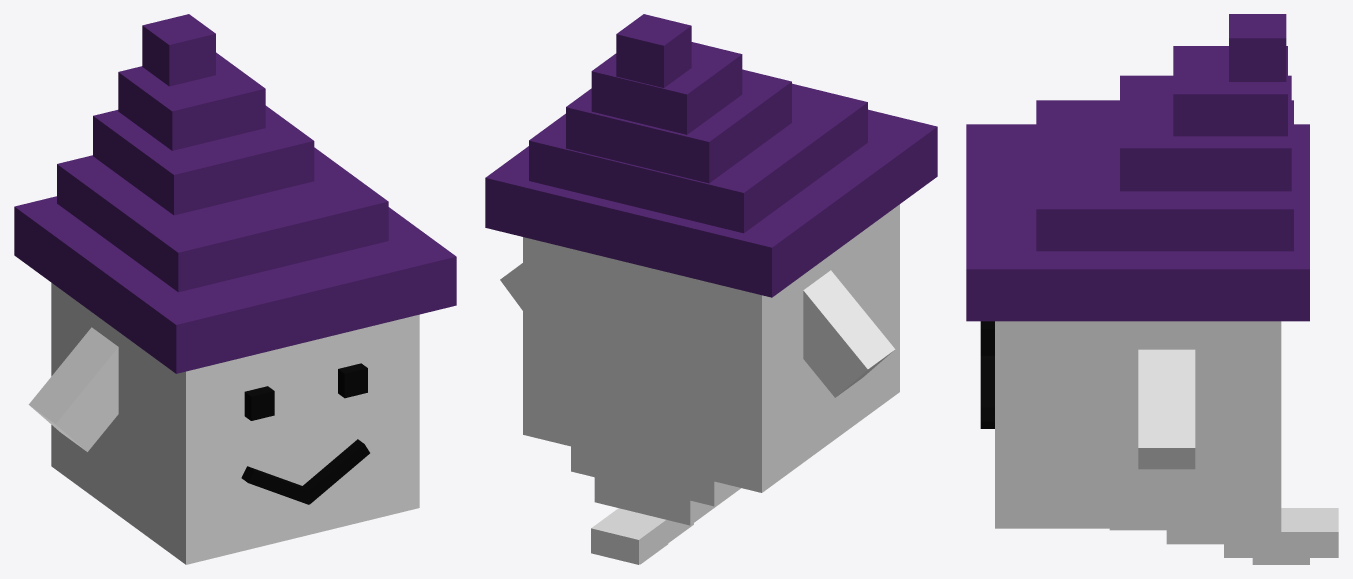
File: GhostMotion.fbx
The picture shows the model from 3 angles, left to right: view 1: azimuth 30°, elevation 25°; view 2: azimuth 150°, elevation 25°; view 3: azimuth 270°, elevation 25°; orthographic projection. The views are drawn at different scales.
Visible parts, largest first — view 1: MainBody, Hat1, Hat2, Hat3, Hat4, RightHand, Hat5, Mouse2, Mouse1, RightEye, LeftEye; view 2: MainBody, Hat1, Hat2, Hat3, Hat4, RightHand, Hat5, Tail1, Tail3, Tail2, LeftHand; view 3: MainBody, Hat1, Hat2, Hat3, Hat4, LeftHand, Hat5, Tail3, Tail2, Mouse1, LeftEye, Tail1.
Part boxes in pixels (x1,y1,x2,y2): MainBody: (51, 283, 419, 564); Hat1: (14, 196, 456, 373); Hat2: (57, 147, 388, 292); Hat3: (93, 105, 314, 215); Hat4: (118, 52, 265, 150); RightHand: (28, 327, 118, 451); Hat5: (142, 14, 215, 86); Mouse2: (303, 439, 369, 504); Mouse1: (241, 466, 312, 504); RightEye: (244, 386, 274, 420); LeftEye: (338, 363, 367, 398); MainBody: (523, 204, 899, 492); Hat1: (485, 109, 937, 297); Hat2: (529, 83, 867, 233); Hat3: (566, 69, 791, 183); Hat4: (591, 42, 742, 134); RightHand: (803, 270, 895, 397); Hat5: (616, 14, 691, 87); Tail1: (571, 446, 739, 506); Tail3: (591, 508, 693, 564); Tail2: (594, 477, 740, 525); LeftHand: (500, 263, 522, 310); MainBody: (995, 321, 1281, 528); Hat1: (966, 124, 1309, 321); Hat2: (1036, 100, 1293, 251); Hat3: (1120, 75, 1291, 191); Hat4: (1173, 46, 1287, 136); LeftHand: (1138, 349, 1195, 469); Hat5: (1229, 14, 1286, 81); Tail3: (1224, 508, 1338, 557); Tail2: (1166, 530, 1281, 544); Mouse1: (980, 355, 994, 407); LeftEye: (980, 321, 994, 355); Tail1: (1109, 528, 1281, 530).
Size of the model in its own units: 308 by 411 by 260.
